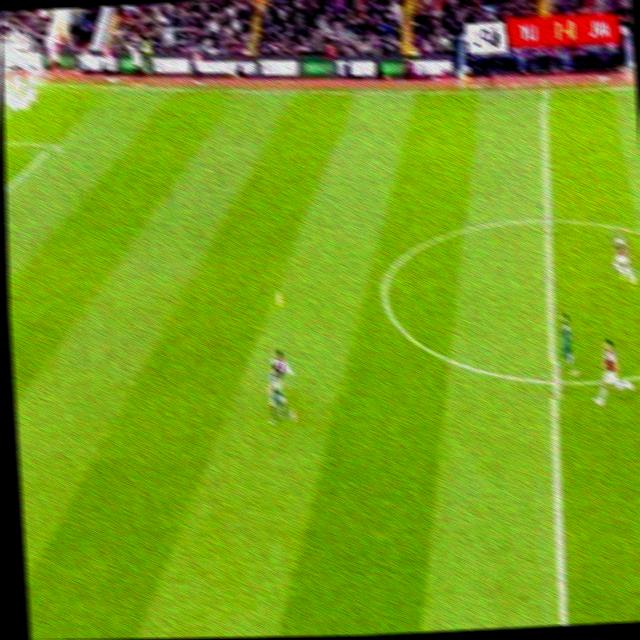bigarea_top_inner: (43, 133, 63, 156)
halfcircle_bottom: (540, 360, 569, 399)
halfcircle_top: (533, 201, 563, 237)
midline_top_intersection: (534, 77, 553, 101)
